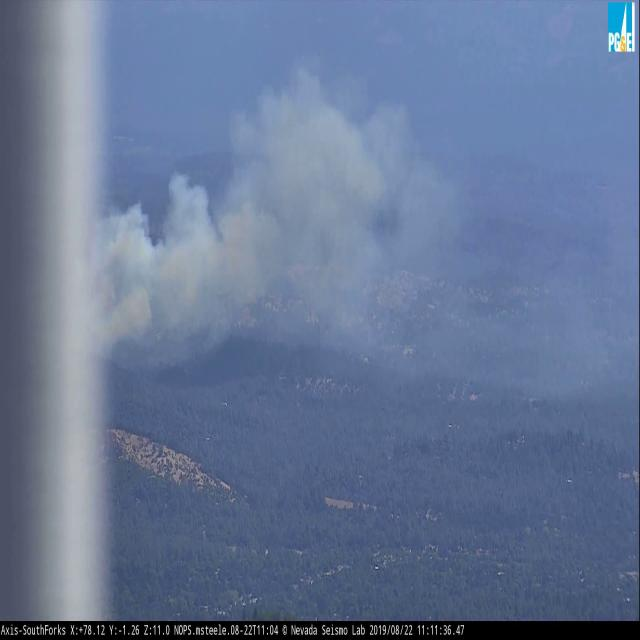smoke: (94, 66, 640, 377)
